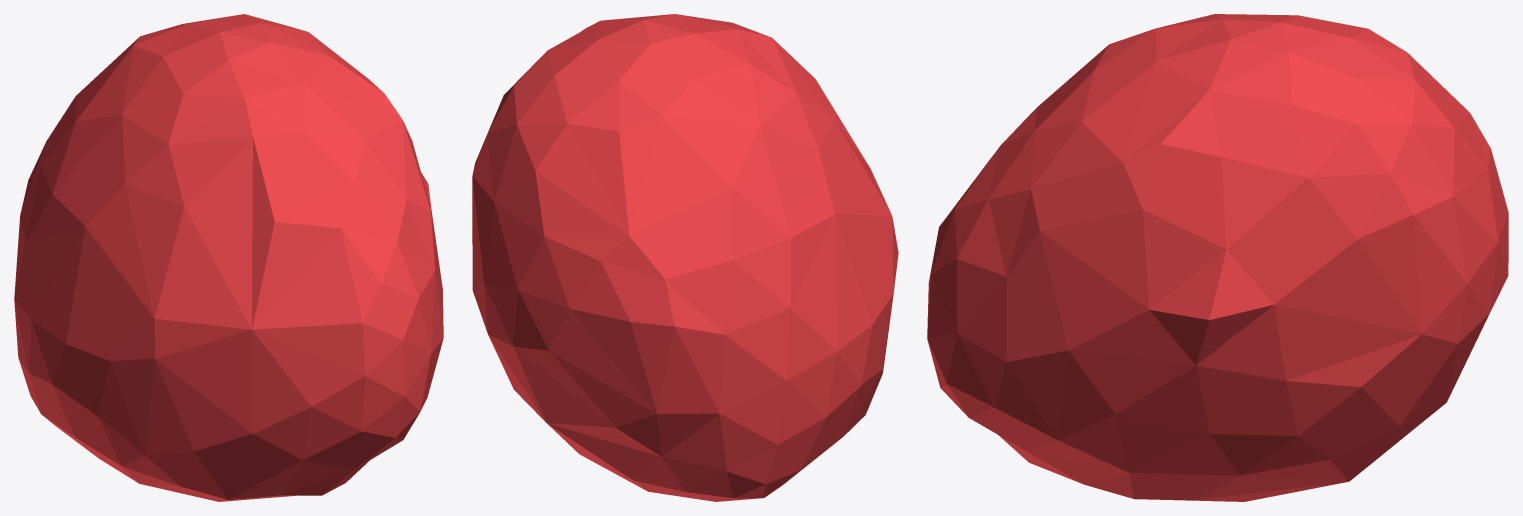
File: Model_10479_LH__Facial_nucleus_(7N).obj
The picture shows the model from 3 angles, left to right: view 1: azimuth 30°, elevation 25°; view 2: azimuth 150°, elevation 25°; view 3: azimuth 270°, elevation 25°; orthographic projection. The views are drawn at different scales.
Bounding box in the file's own units: 0.5341 × 0.5852 × 0.6457.
